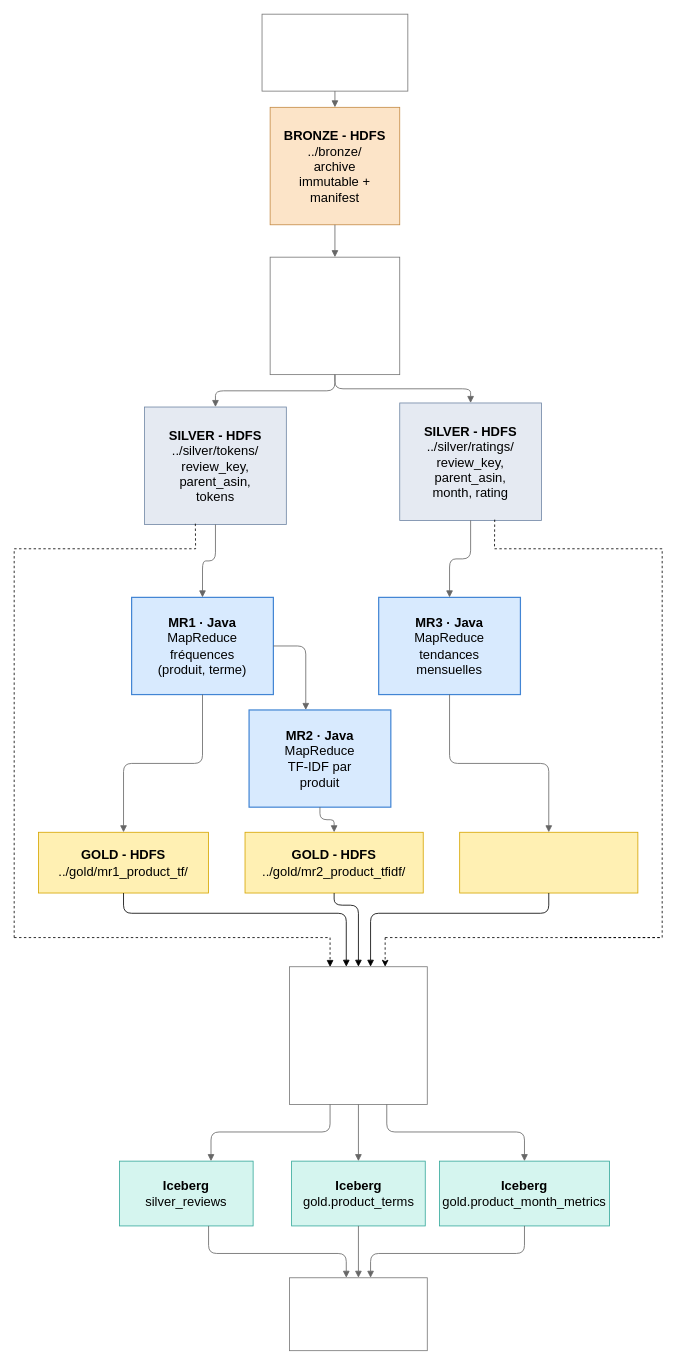
Image size: 677x1365. Some labels were removed from this diagram. The shapes that lost their labels are listed below. From the top down, each one's centre as x and y in pixels, then its label:
point 334,52: Appliances.jsonl.gz Amazon Reviews'23 (source)
point 334,315: Préparateur streaming validation · normalisation · journal de rejets
point 548,862: GOLD - HDFS ../gold/mr3_product_month/
point 358,1035: Moteur SQL compatible Iceberg (Spark SQL) import + interrogation
point 358,1314: Restitution Streamlit / rendu statique
